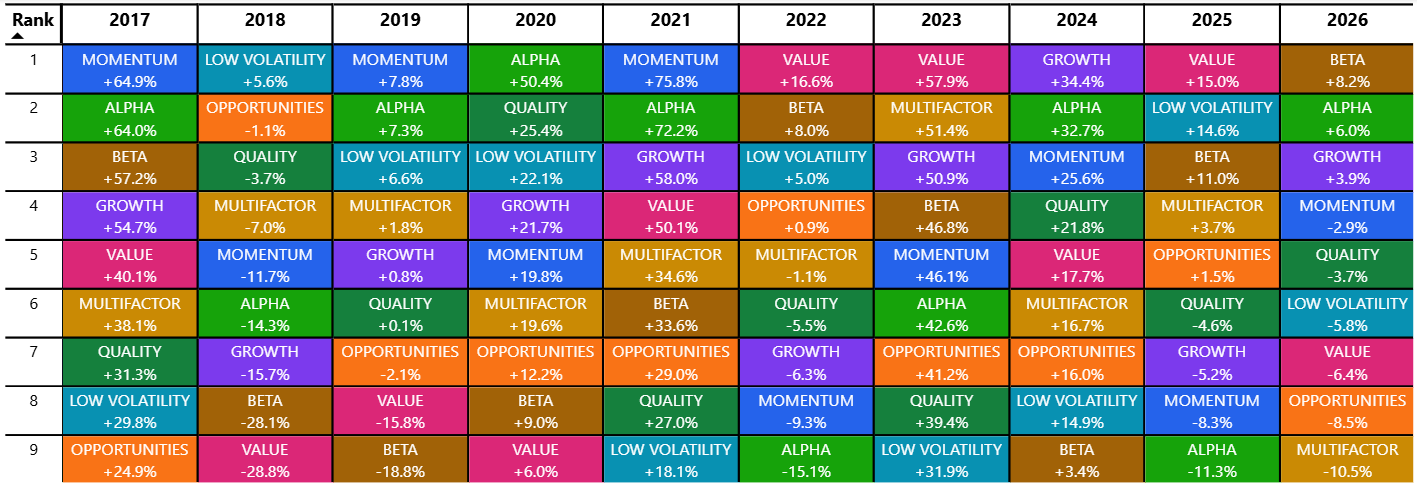

The dashboard page shown, as its layout file describes it:
{"tool":"powerbi","page":{"name":"All sector 2006-26","canvas":[1280,720],"ordinal":0},"visuals":[{"type":"pivotTable","fields":{"Rows":["Rank Table.Rank"],"Columns":["Date Table.Year"],"Values":["Combine Data.Sector Return Label"]},"box":[0,0,1280.4,720.2],"z":0}]}

Visuals, with their boxes on the page's 1280x720 design canvas (x1, y1, x2, y2). These are canvas units, not pixel positions in the 1417x487 screenshot, which may show the page scaled, cropped or inside an application window:
pivotTable - Rank Table.Rank x Date Table.Year: (left=0, top=0, right=1280, bottom=720)
